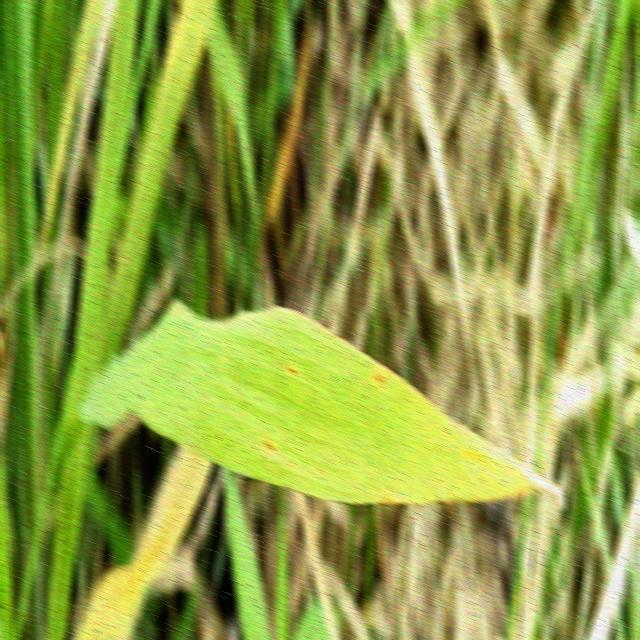NBS: (370, 372, 388, 385), (262, 440, 277, 452), (287, 367, 298, 375)
